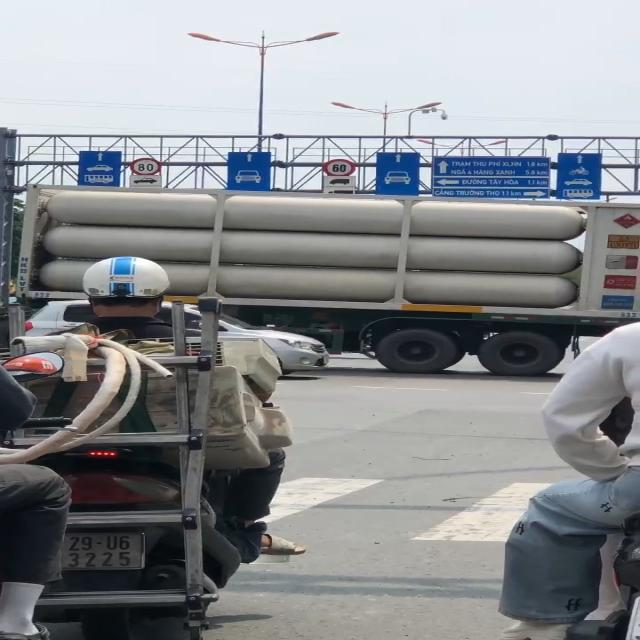Bien bao toc do toi da cho phep: (320, 158, 360, 179), (129, 156, 168, 177)
